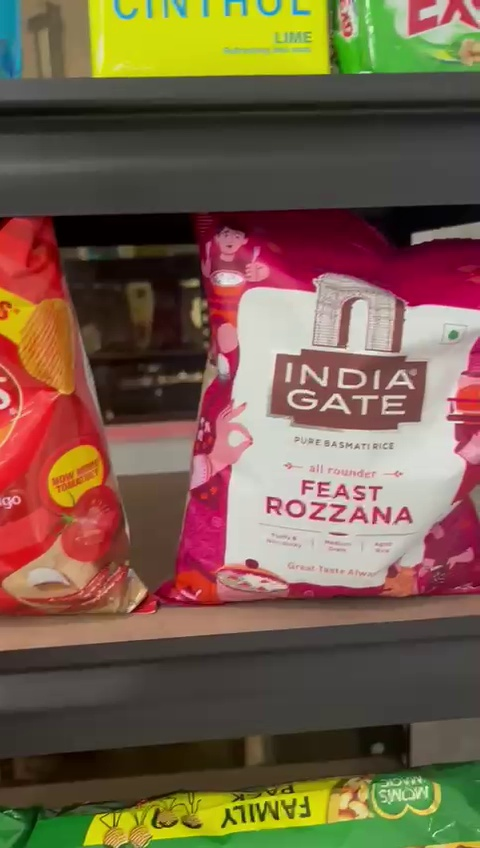India Gate Feast Rozzana: (189, 218, 480, 592)
